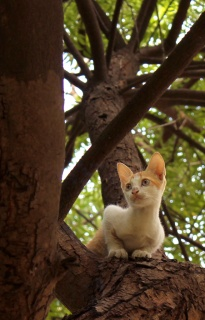Cat: (89, 152, 167, 258)
